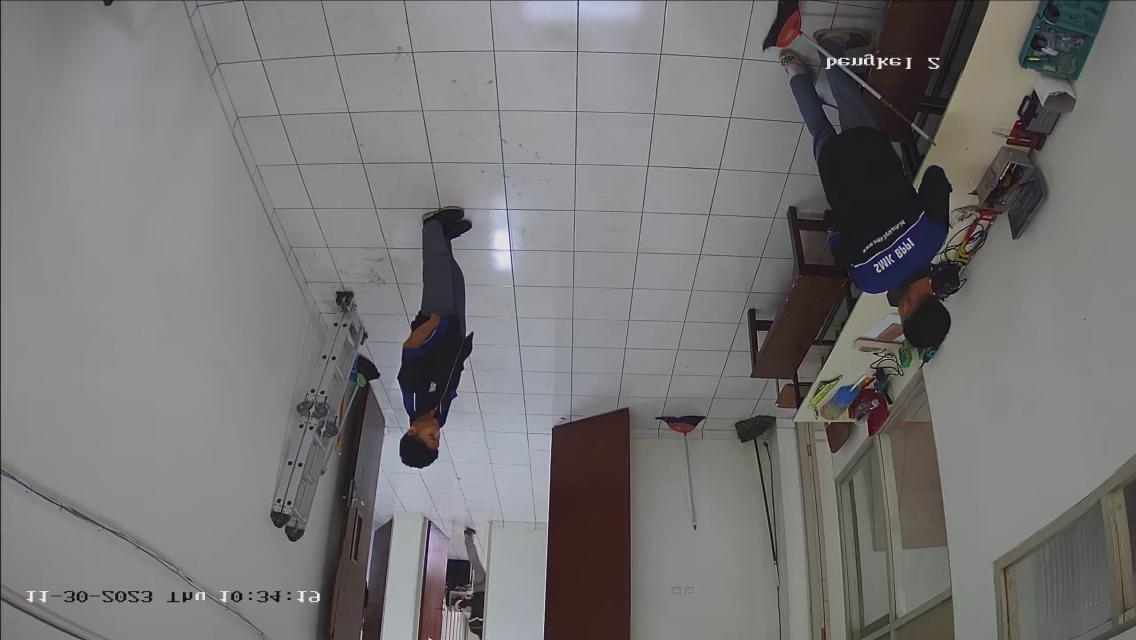Person-Crowd: (372, 202, 488, 474)
